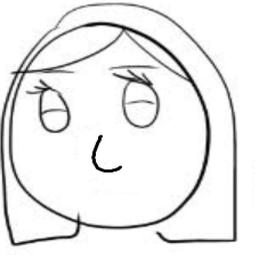eye: (25, 80, 75, 135), (112, 72, 159, 130)
eyebrow: (108, 64, 162, 72), (39, 67, 77, 75)
nose: (87, 133, 122, 174)
